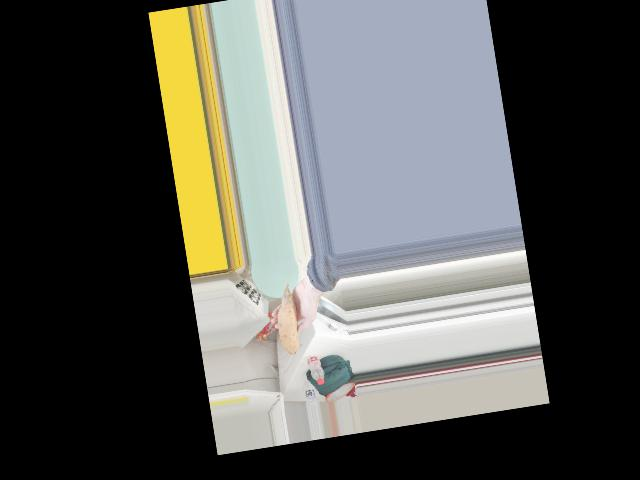sweet_potato: (272, 286, 304, 355)
